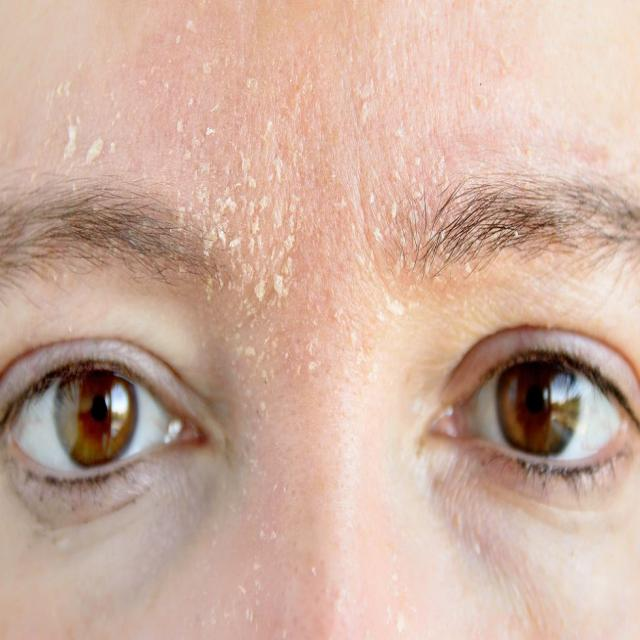Dry-Skin: (206, 157, 415, 374), (99, 46, 454, 151)
